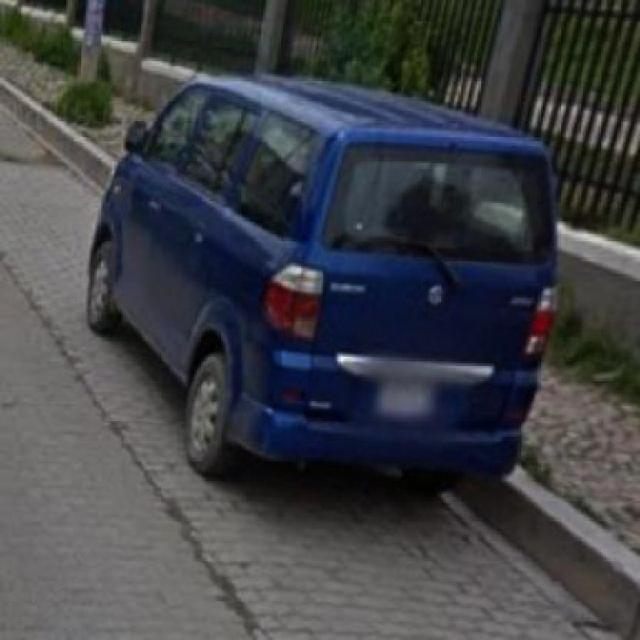car: (82, 48, 562, 514)
